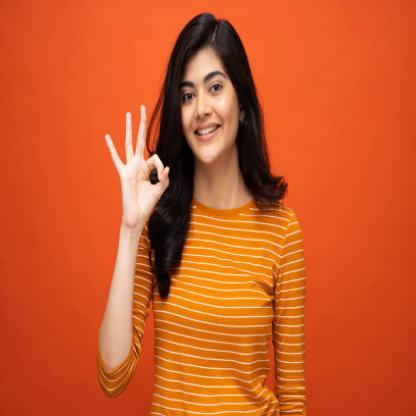ok: (102, 100, 174, 227)
